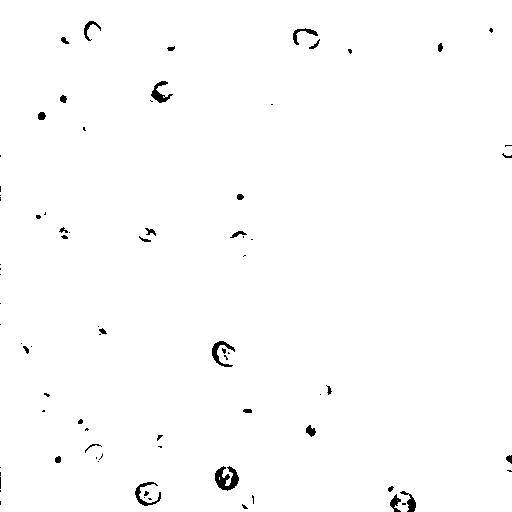micro-algae: (71, 384, 156, 473), (268, 417, 350, 502), (100, 60, 160, 124), (6, 0, 80, 48), (42, 190, 92, 241), (53, 290, 99, 344), (472, 81, 512, 129), (204, 49, 248, 90), (146, 393, 190, 430), (66, 408, 102, 444), (255, 348, 289, 385), (25, 389, 58, 424), (23, 192, 56, 226), (425, 30, 457, 65), (154, 26, 186, 60), (24, 102, 57, 133), (227, 396, 266, 422), (1, 486, 38, 512), (130, 413, 162, 443), (226, 228, 255, 260), (78, 112, 107, 143), (211, 340, 240, 369), (466, 233, 497, 260), (491, 430, 511, 471), (54, 85, 82, 114), (214, 463, 240, 493), (133, 480, 163, 506), (291, 27, 324, 50), (481, 14, 507, 42), (151, 79, 177, 104), (56, 26, 80, 52), (389, 490, 418, 511), (95, 312, 118, 337), (48, 446, 72, 469), (336, 37, 358, 61), (17, 336, 39, 360), (84, 441, 106, 465), (259, 92, 282, 114), (380, 478, 402, 501), (82, 20, 104, 42), (314, 379, 334, 399), (138, 224, 158, 243), (240, 487, 256, 510), (302, 420, 321, 439), (55, 226, 75, 244), (154, 433, 172, 449), (500, 452, 512, 474), (435, 72, 450, 88), (233, 191, 249, 204), (500, 142, 512, 159)
